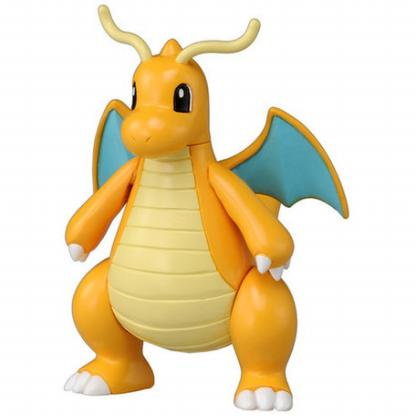Dragonite: (44, 2, 360, 416)
